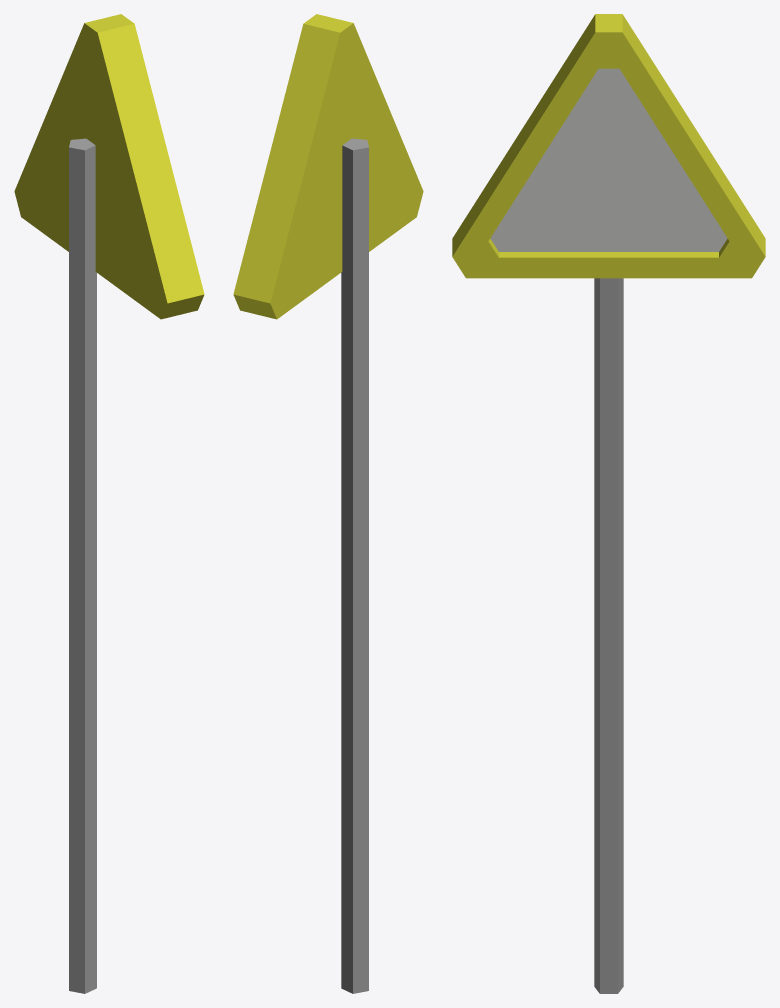
Rendered from Sign_Triangle.glb.
The picture shows the model from 3 angles, left to right: view 1: azimuth 30°, elevation 25°; view 2: azimuth 150°, elevation 25°; view 3: azimuth 270°, elevation 25°; orthographic projection. The views are drawn at different scales.
Visible parts, largest first — view 1: Sign_Triangle.obj; view 2: Sign_Triangle.obj; view 3: Sign_Triangle.obj.
Boxes of the visible parts, x1,y1,x2,y2 form: Sign_Triangle.obj: [14, 14, 204, 993]; Sign_Triangle.obj: [233, 14, 423, 993]; Sign_Triangle.obj: [452, 14, 765, 993].
Size of the model in its own units: 0.0345 by 0.5344 by 0.1549.
